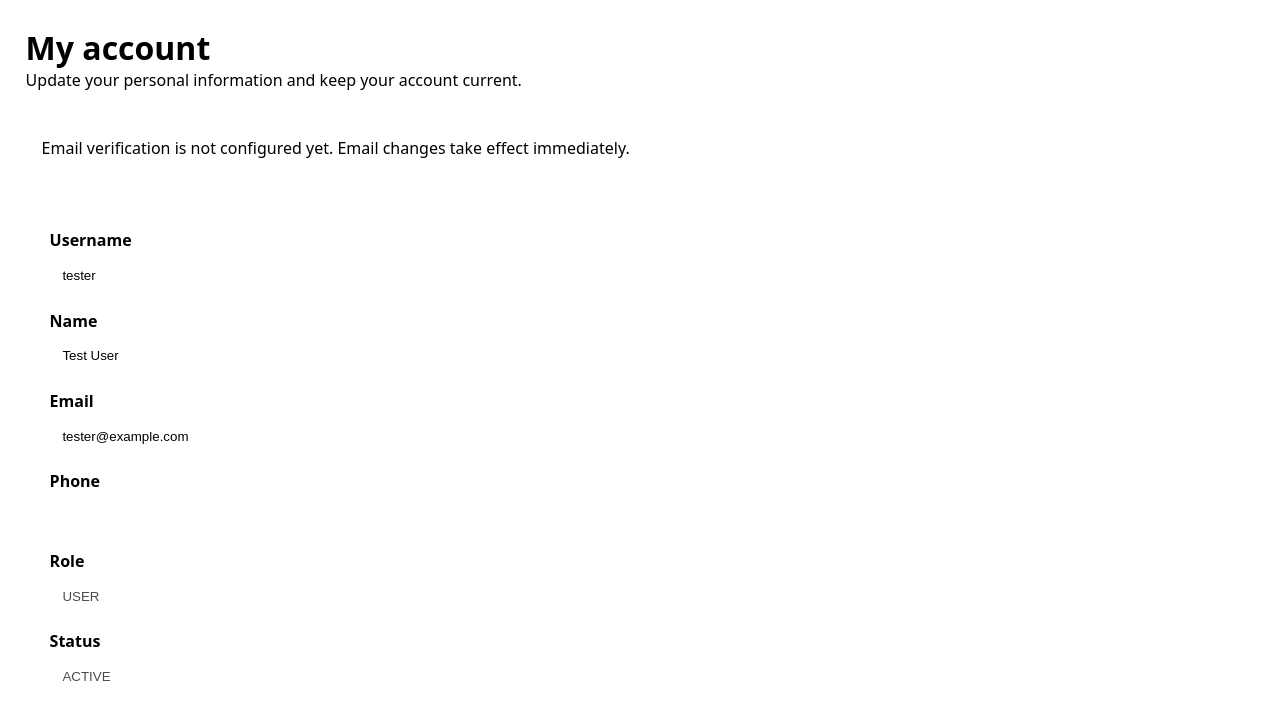
Test: AccountPage › requires current password for email changes
The width and height of the screenshot is (1280, 711).
Replace the text in the field labelled "Email" with "new@example.com". click: (640, 436)
box: [50,418,1230,454]
(page scrolled)
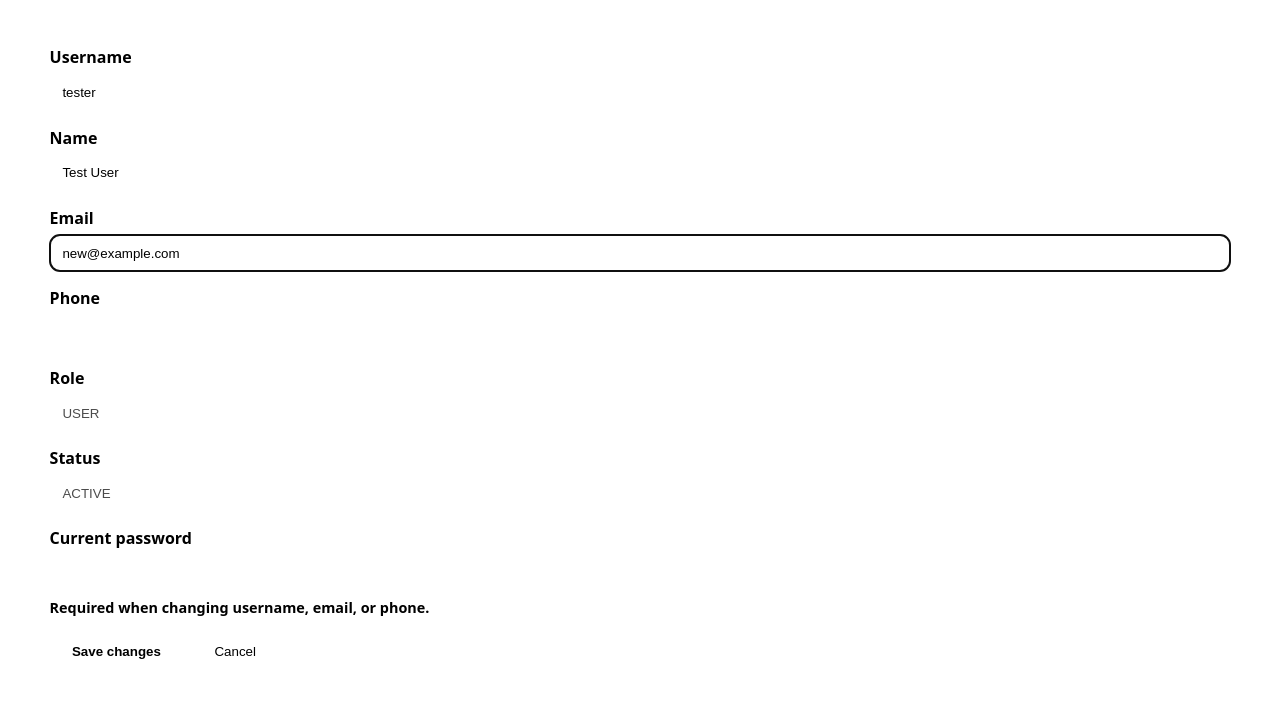
Click the button "Save changes". click: click(116, 652)
box: [50,633,183,670]
(page scrolled)
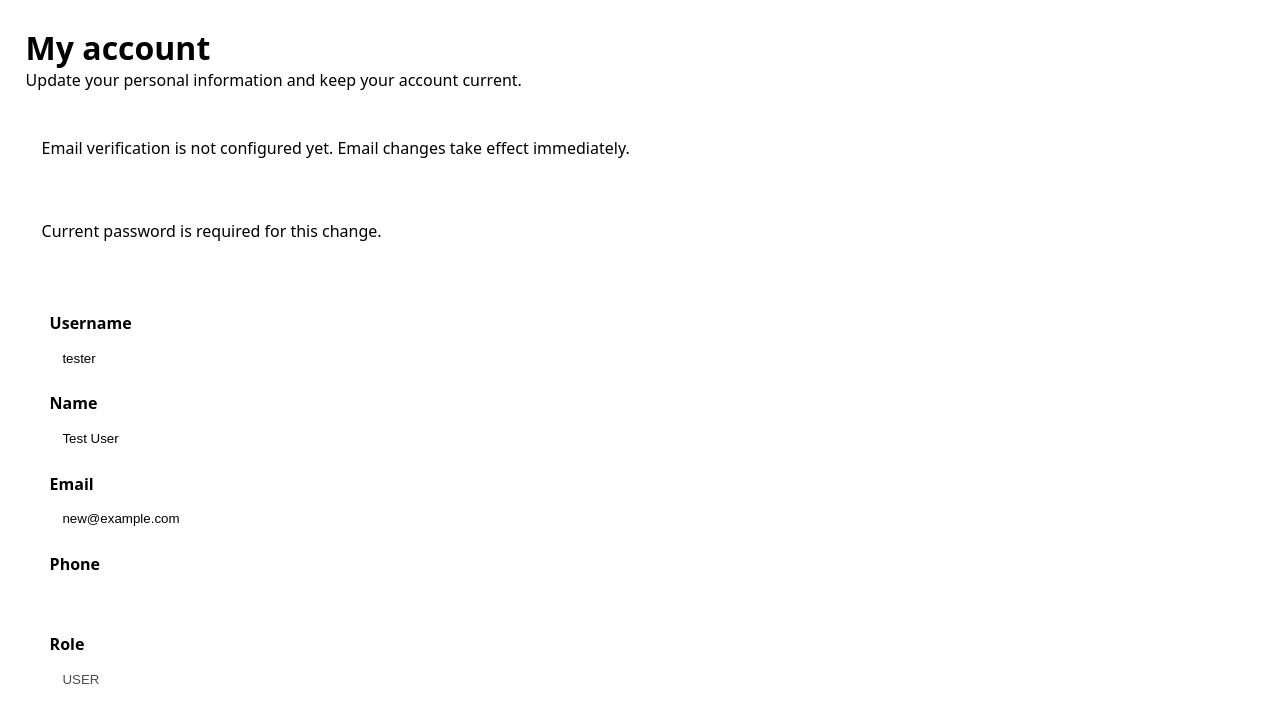
Check: the text "Current password is required for this change." is shown, box [42,220,382,242]
